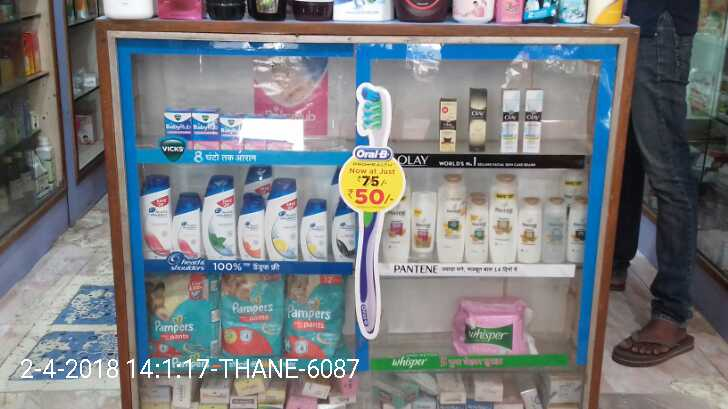vicks: (166, 107, 304, 151)
